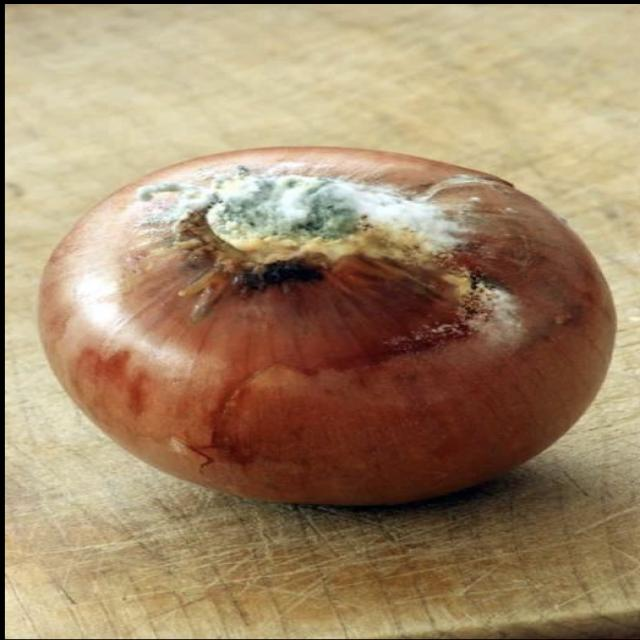mechanical_damage: (39, 147, 614, 503)
